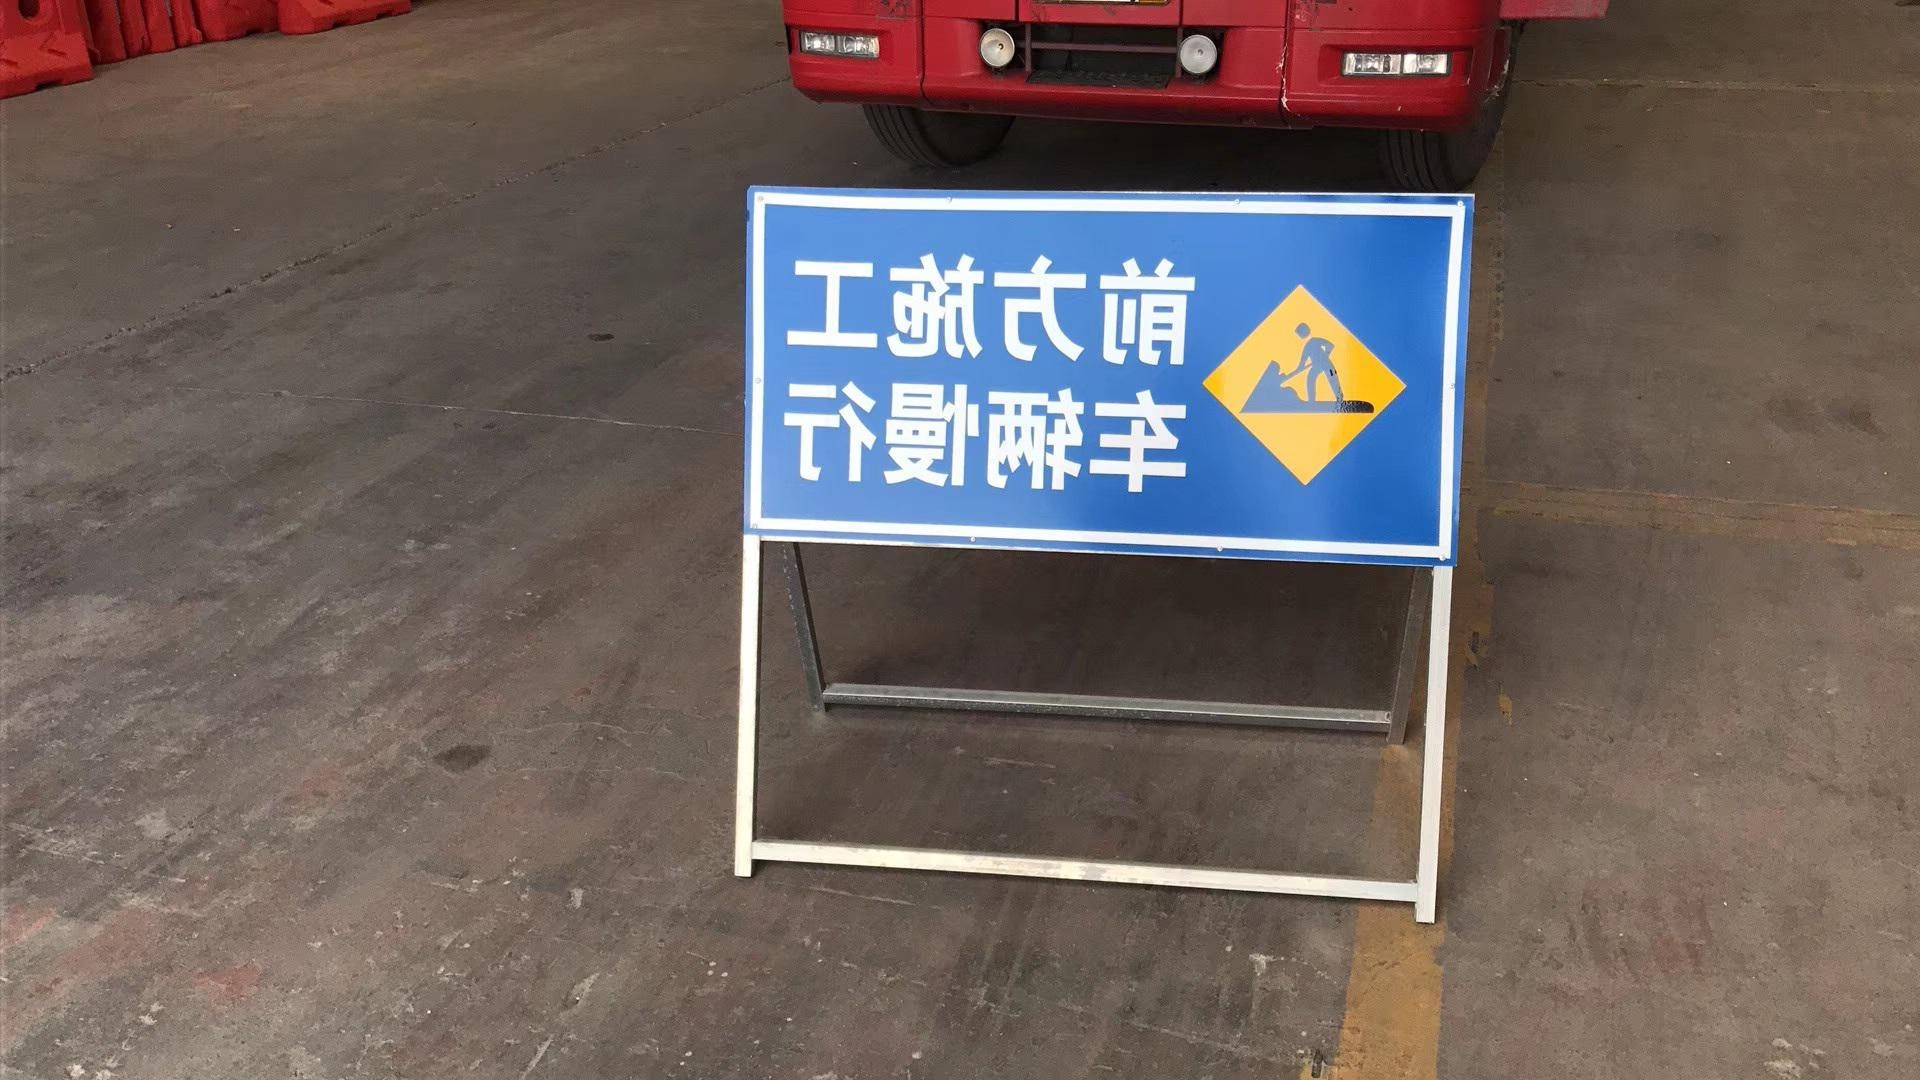sign: (746, 187, 1473, 564)
